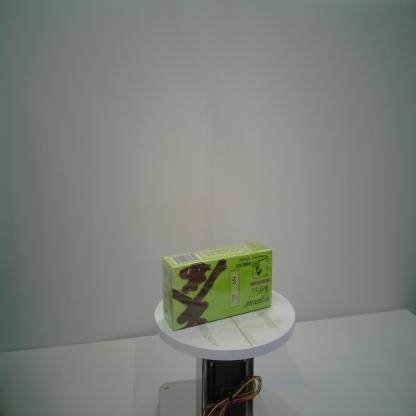Instant Drink: (162, 239, 273, 332)
